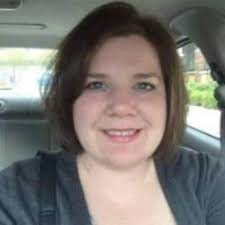white_female: (68, 47, 169, 155)
